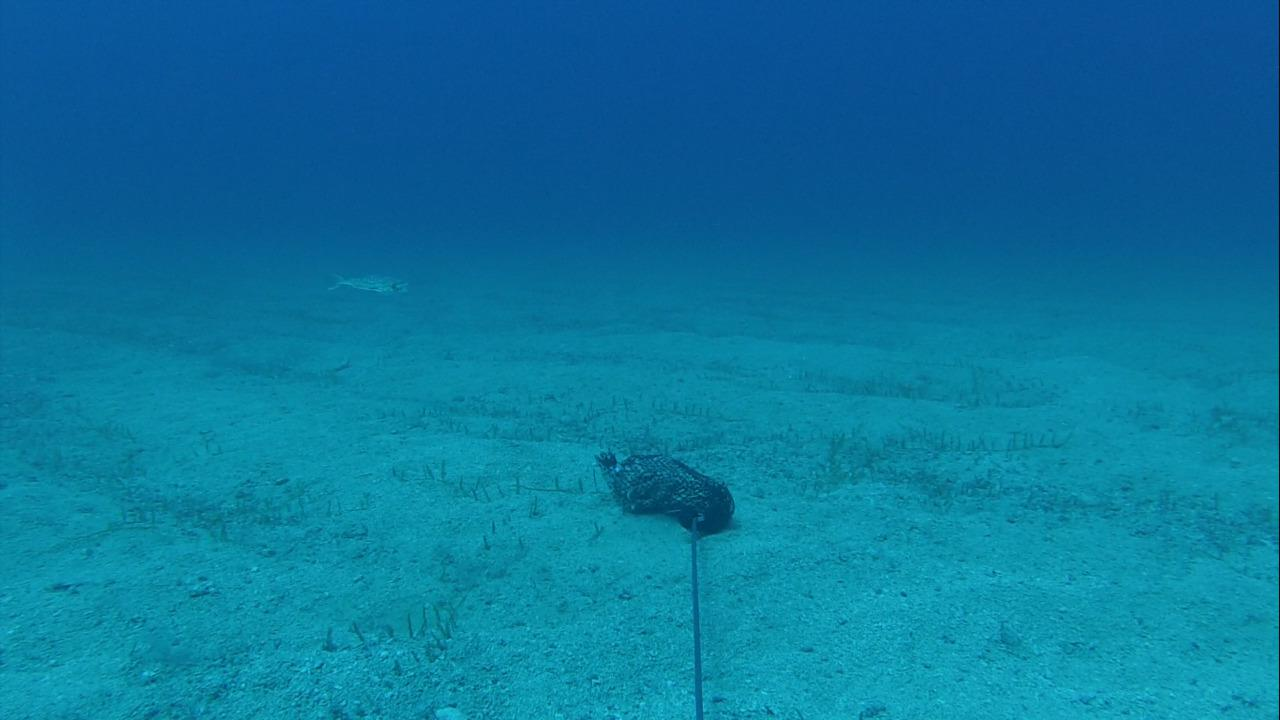dactylopterus: (309, 260, 409, 304)
